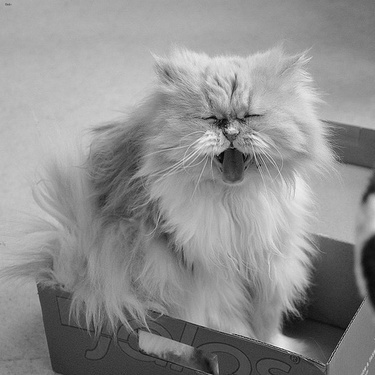cat: (37, 39, 335, 340)
